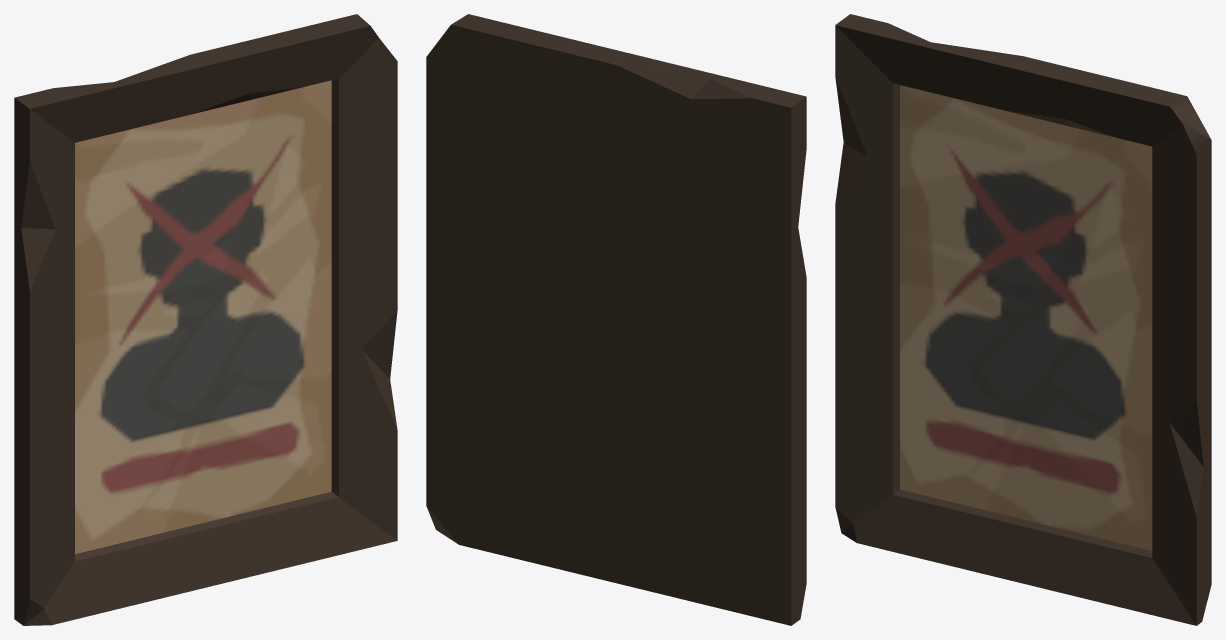
File: SM_Prop_Sign_Poster_20.fbx
3 renders of one model, left to right at view 1: azimuth 30°, elevation 25°; view 2: azimuth 150°, elevation 25°; view 3: azimuth 330°, elevation 25°, orthographic.
Parts seen in each view (by area): view 1: SM_Prop_Sign_Poster_20; view 2: SM_Prop_Sign_Poster_20; view 3: SM_Prop_Sign_Poster_20.
Part boxes in pixels (x1,y1,x2,y2): SM_Prop_Sign_Poster_20: (14,14,397,625); SM_Prop_Sign_Poster_20: (426,14,806,625); SM_Prop_Sign_Poster_20: (835,14,1211,625).
Size of the model in its own units: 59.41 by 80.54 by 4.32.
